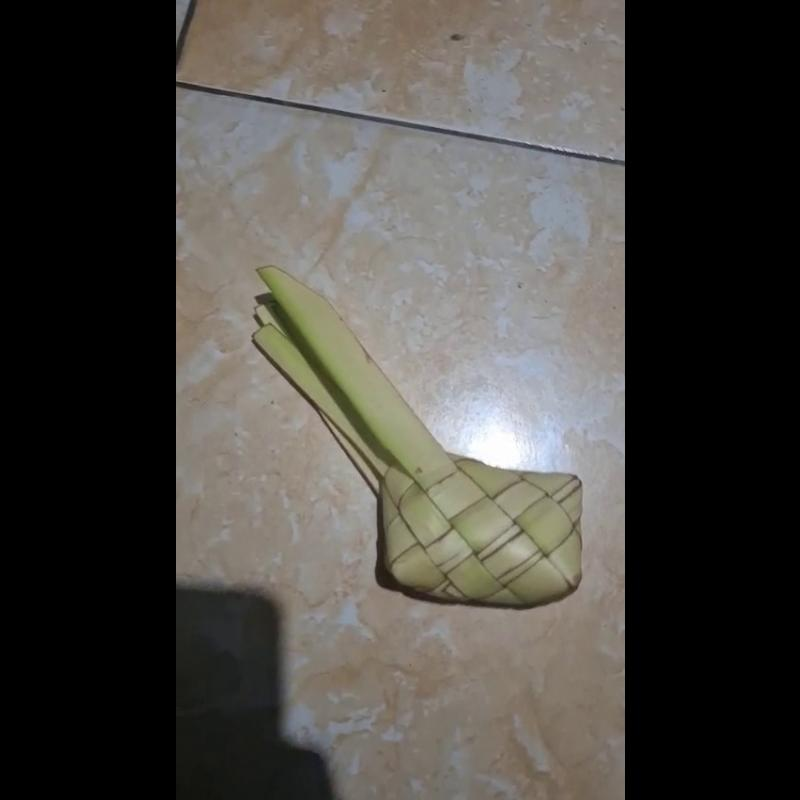Tipat Bantal: (245, 266, 583, 611)
